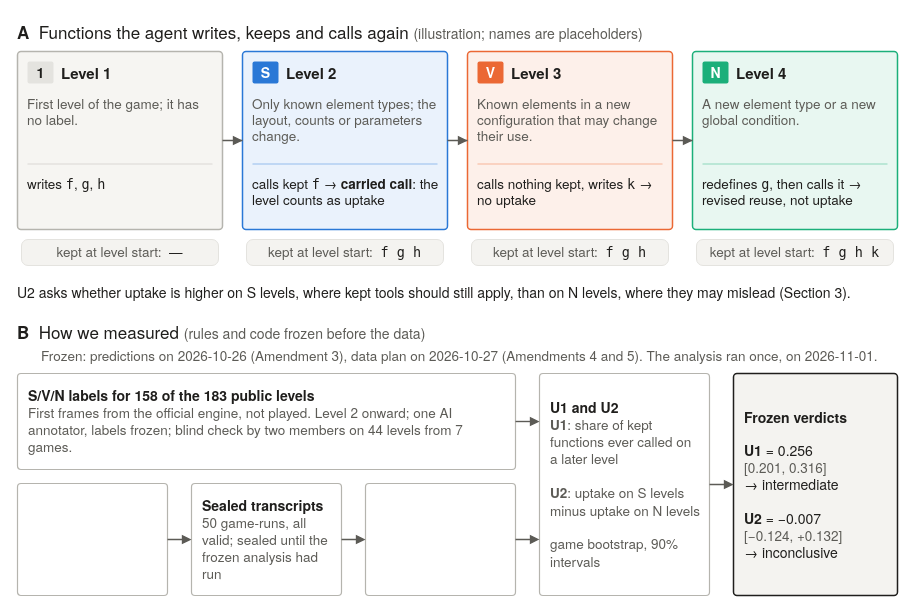
This 916x613 diagram has some shape labels left out. Here are the shapes that lost their labels. From the top down, the centre of each, then its label:
At (92,539): "Kaggle run R-06 v1 configuration, submission 57639912; 25 games × 2 passes".
At (440,539): "Frozen parser kept functions per level; carried calls from the syntax tree".
